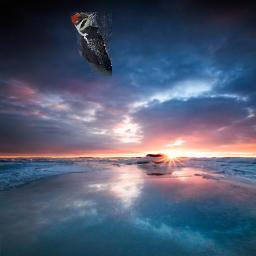Woodpecker: (70, 12, 112, 76)
